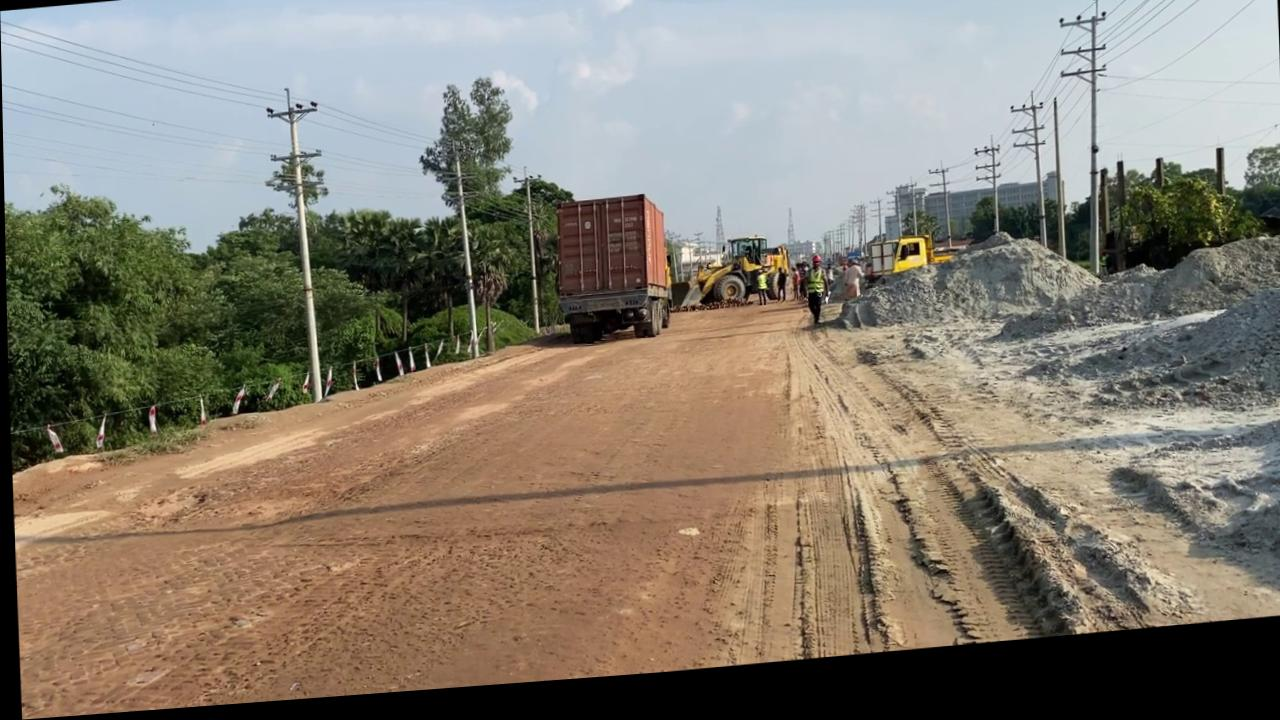Obstacle: (550, 200, 670, 355)
Pole: (262, 89, 329, 410), (452, 163, 478, 367)
Traffic-sign: (3, 171, 218, 471), (414, 80, 520, 368)
Tree: (690, 244, 790, 320), (859, 243, 957, 302), (663, 248, 690, 321), (759, 256, 790, 314)
